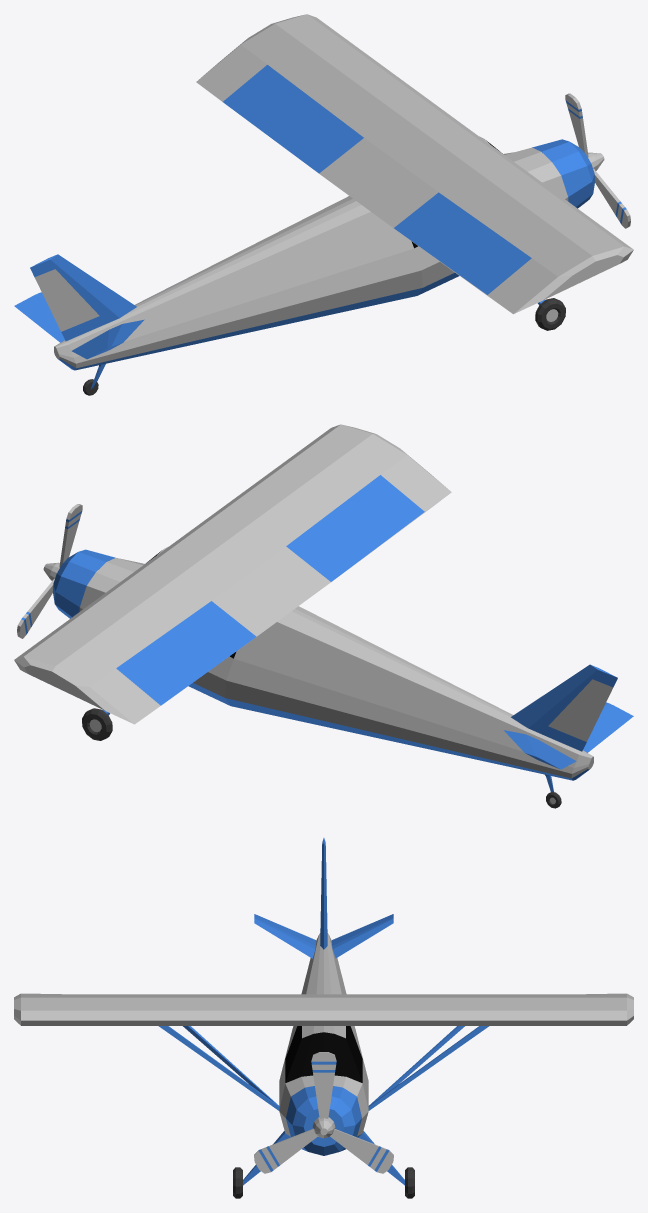
3 views of the same model, one above another, from view 1: azimuth 30°, elevation 25°; view 2: azimuth 150°, elevation 25°; view 3: azimuth 270°, elevation 25° (orthographic). The views are drawn at different scales.
Parts seen in each view (by area): view 1: Avion, Pales; view 2: Avion, Pales; view 3: Avion, Pales.
Part boxes in pixels (left/top/right/bottom): Avion: left=14, top=14, right=633, bottom=395; Pales: left=565, top=93, right=630, bottom=228; Avion: left=14, top=424, right=633, bottom=808; Pales: left=17, top=504, right=82, bottom=638; Avion: left=14, top=838, right=633, bottom=1198; Pales: left=254, top=1052, right=393, bottom=1173.
Size of the model in its own units: 3.56 by 1.09 by 3.49.
